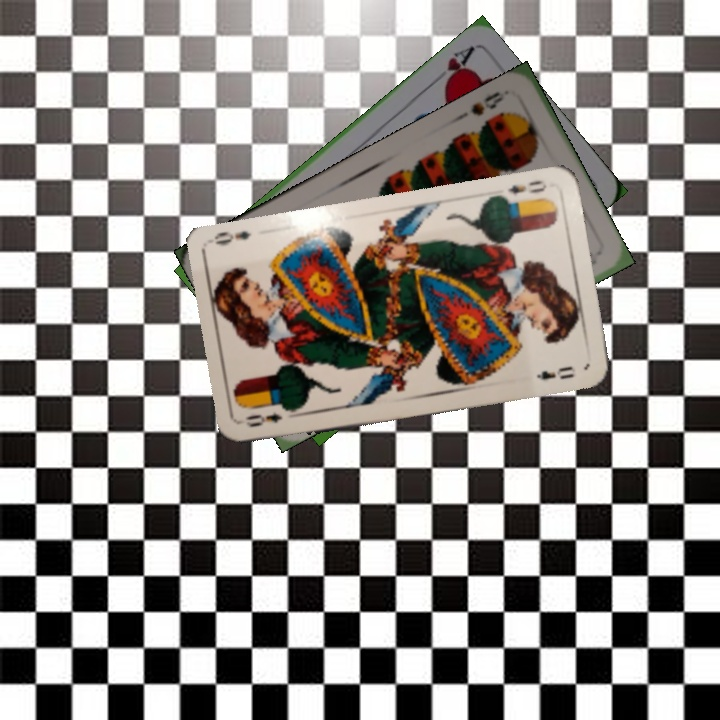EO: (496, 176, 549, 207), (241, 409, 285, 430)
HA: (428, 43, 476, 91)
S8: (466, 87, 508, 119)
